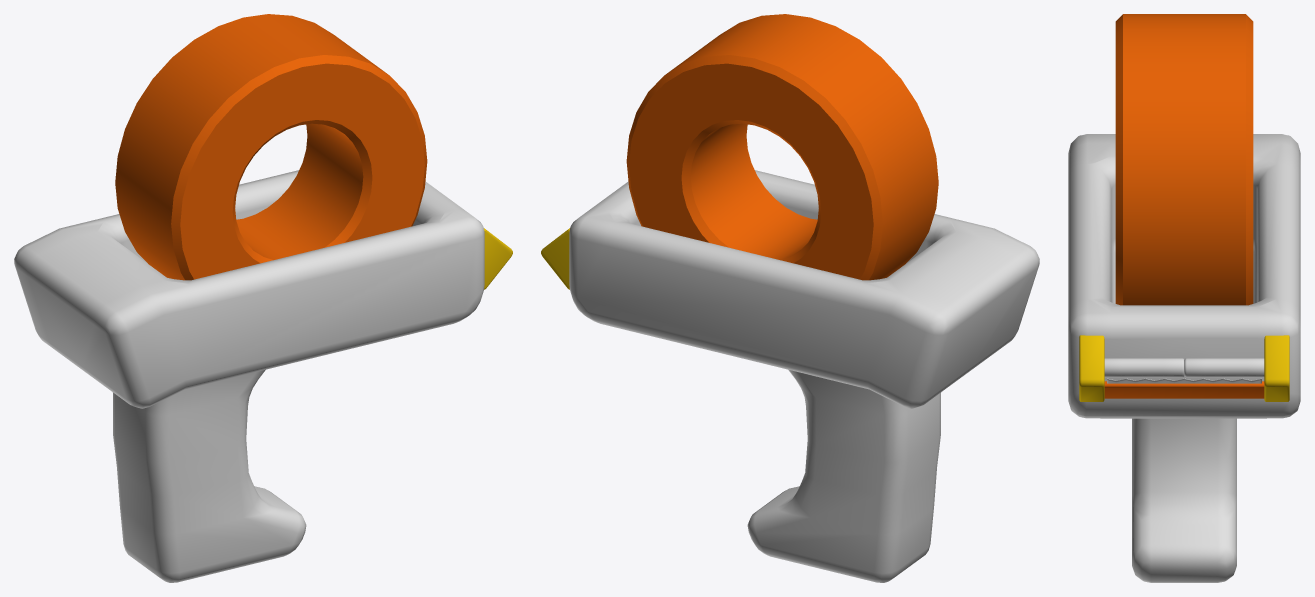
Rendered from 膠帶槍.fbx.
3 renders of one model, left to right at view 1: azimuth 30°, elevation 25°; view 2: azimuth 150°, elevation 25°; view 3: azimuth 270°, elevation 25°, orthographic. The views are drawn at different scales.
Visible parts, largest first — view 1: 膠帶槍; view 2: 膠帶槍; view 3: 膠帶槍.
Part boxes in pixels (box(x1,y1,x2,y2)): 膠帶槍: box(14, 14, 512, 582); 膠帶槍: box(541, 14, 1039, 582); 膠帶槍: box(1068, 14, 1300, 582).
Size of the model in its own units: 134 by 160 by 60.64.
